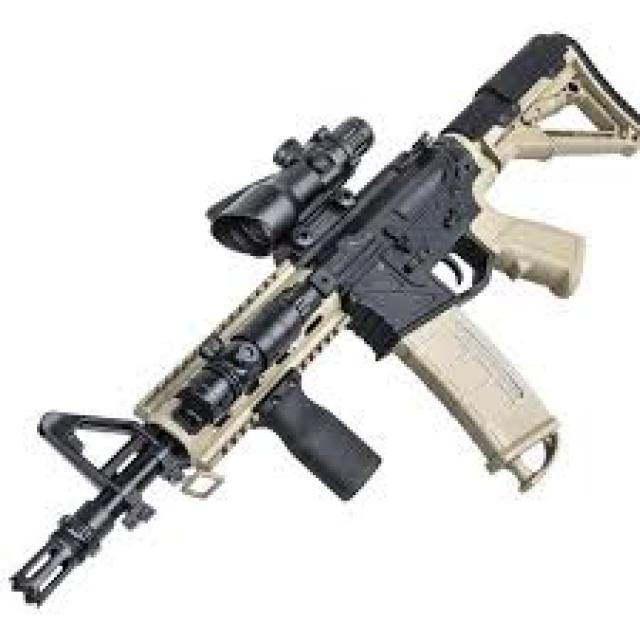rifle: (1, 26, 638, 640)
